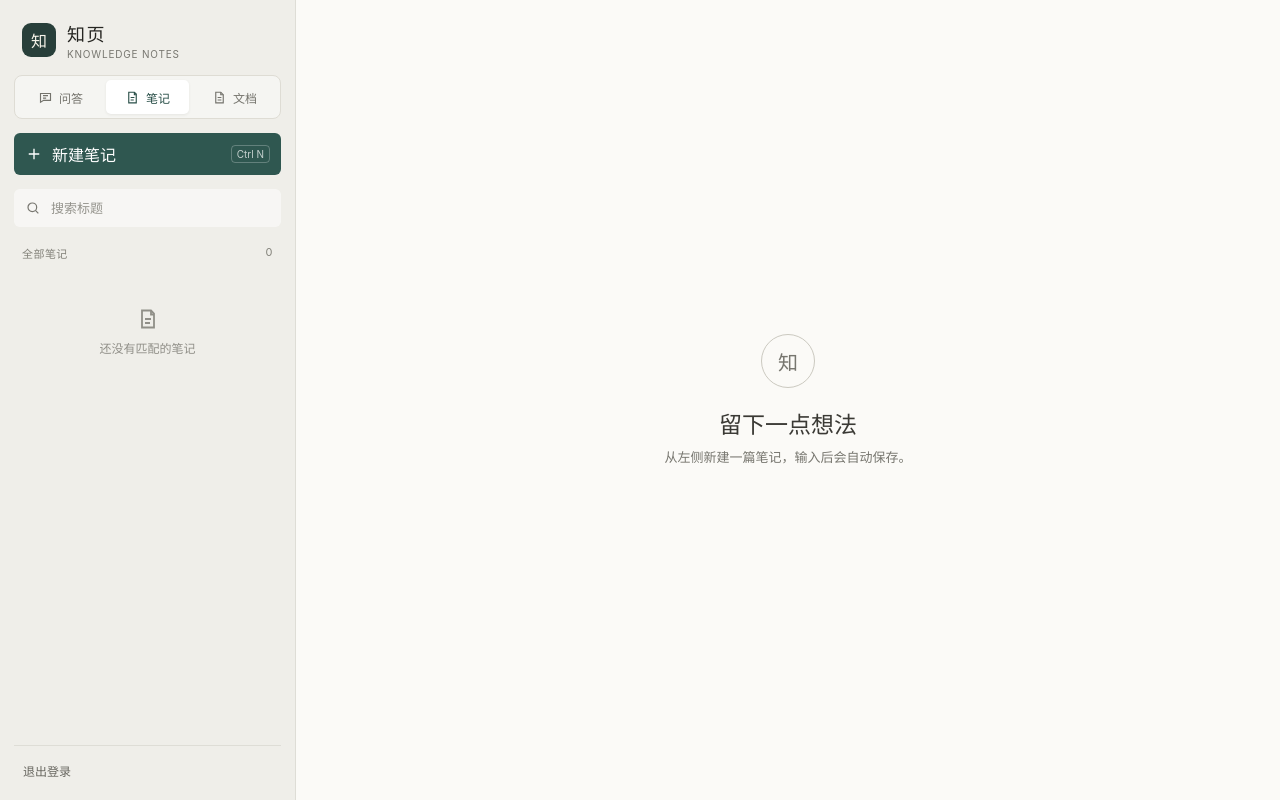
Test: 笔记工作区 › 深度研究模式发送 deep，并显示阶段事件后的完整回答
Click the button "问答": (60, 97) left=19, top=80, right=102, bottom=114
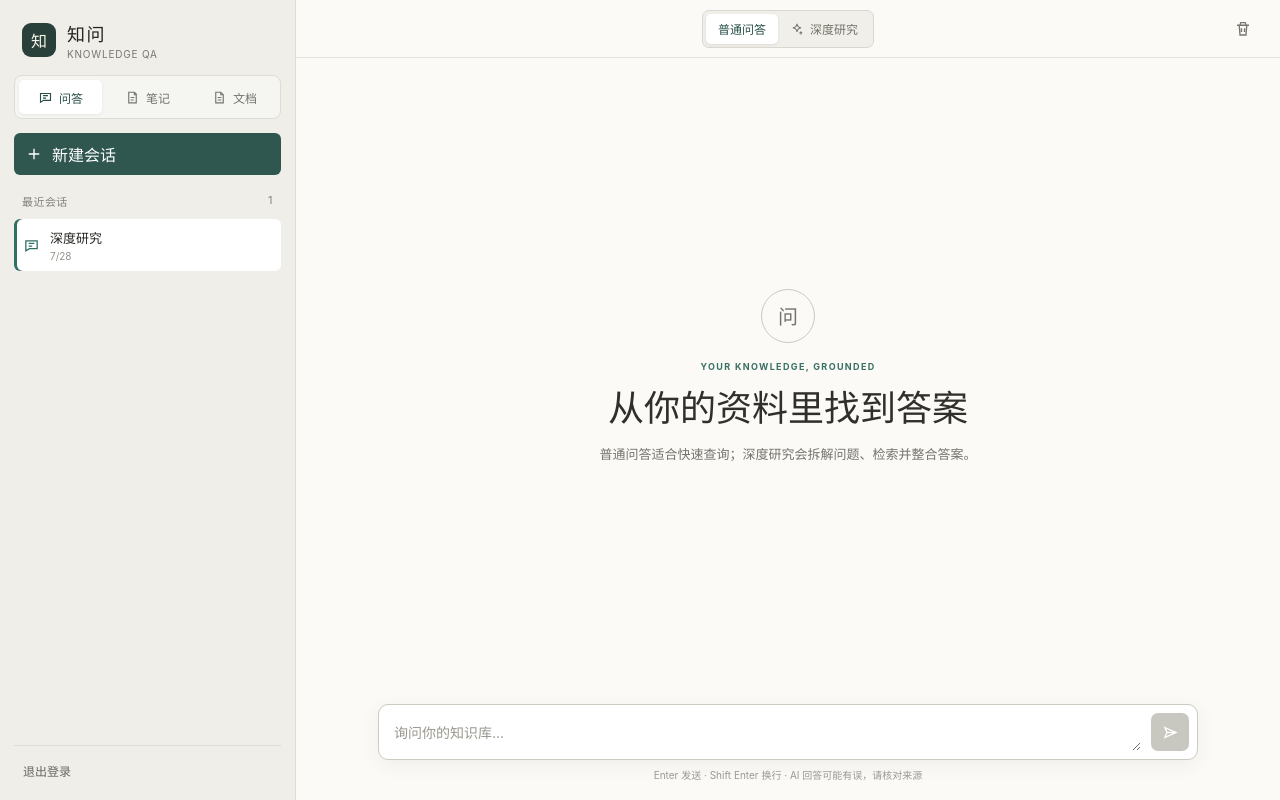
Check: the heading "从你的资料里找到答案" is shown, box left=608, top=379, right=968, bottom=431
Click the button "深度研究": (824, 28) left=778, top=14, right=870, bottom=44
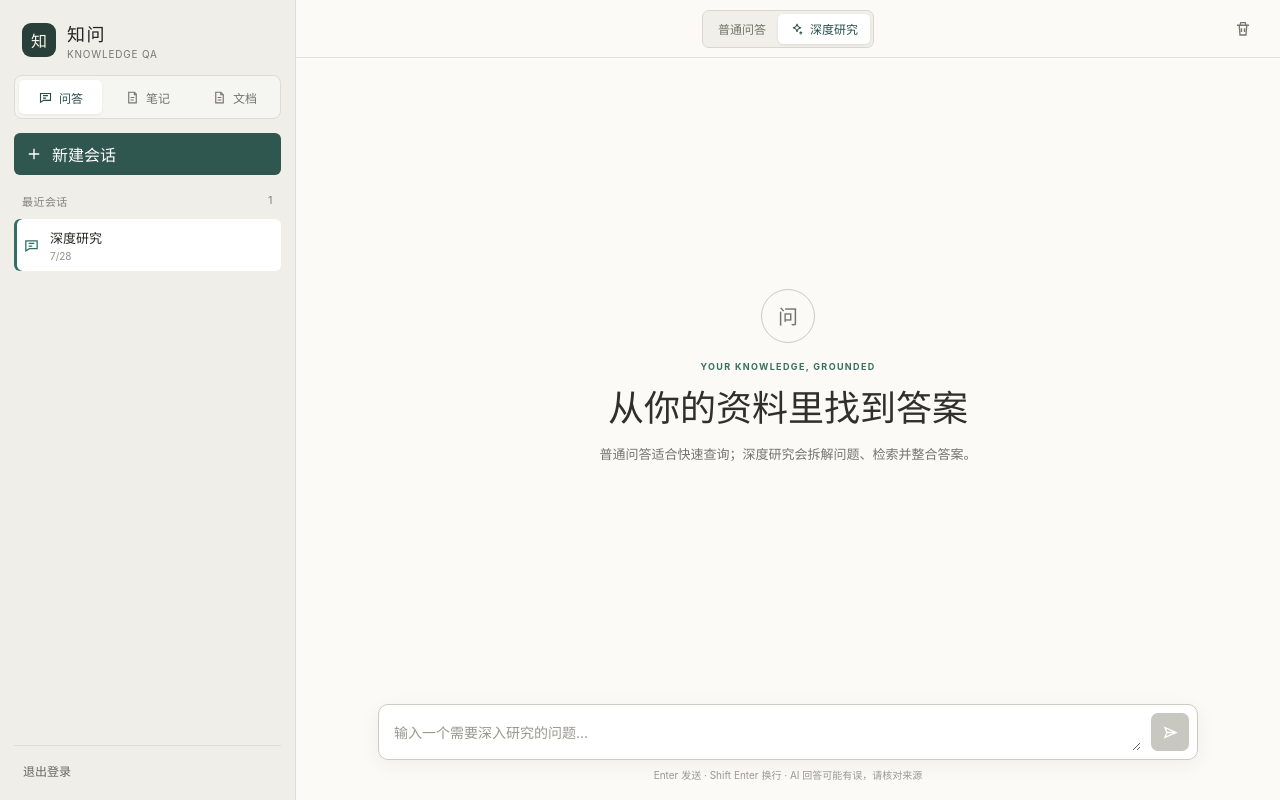
In the text box named "输入问题": (768, 733) left=394, top=715, right=1141, bottom=751, type "研究 RAG 架构"
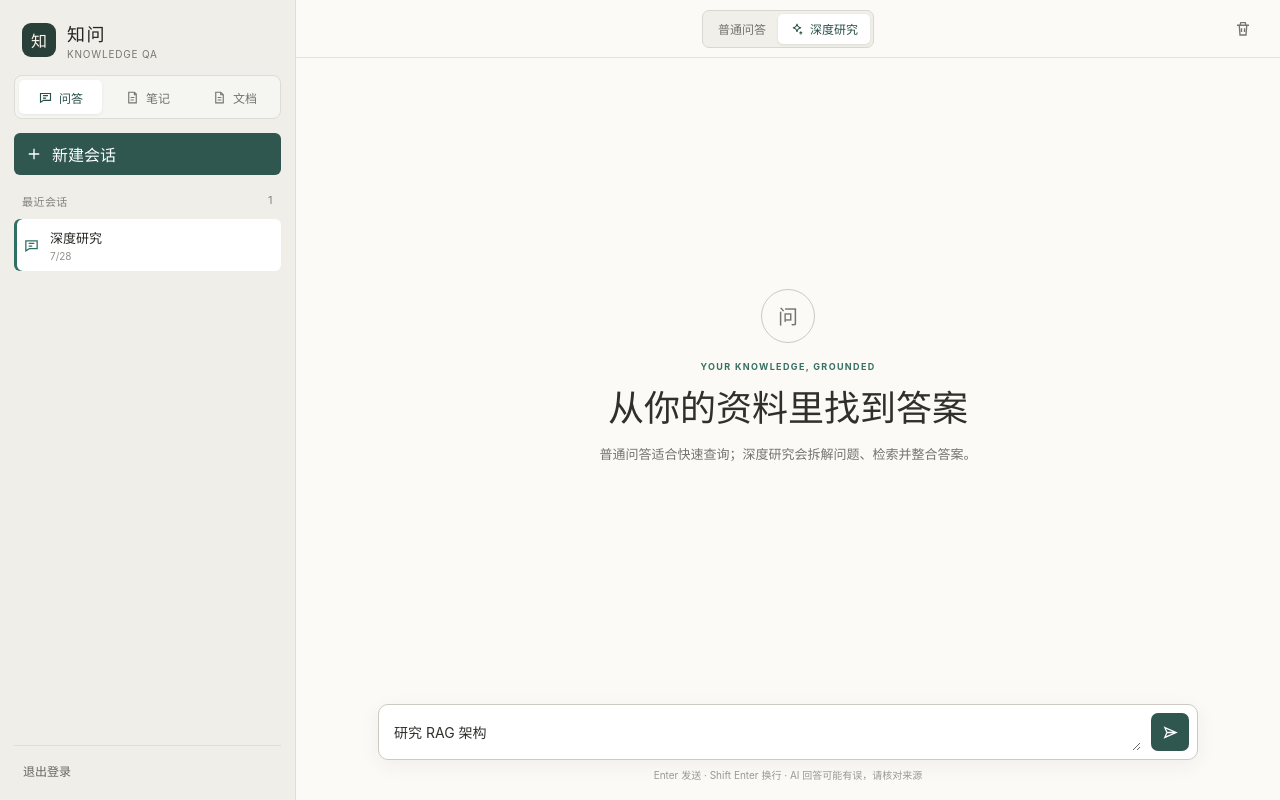
Click the button named "发送问题": (1170, 732) left=1151, top=713, right=1189, bottom=751
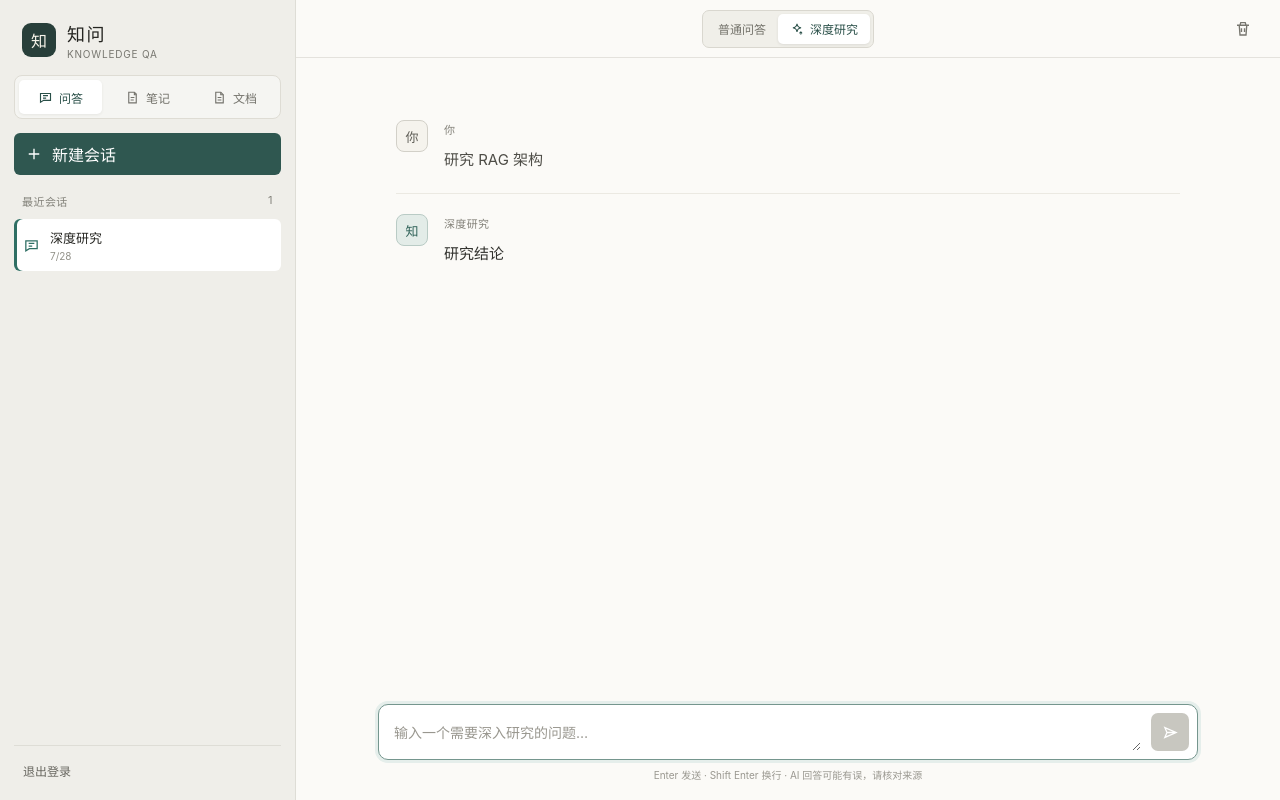
Check: the text "研究结论" is shown, box left=444, top=244, right=504, bottom=263
